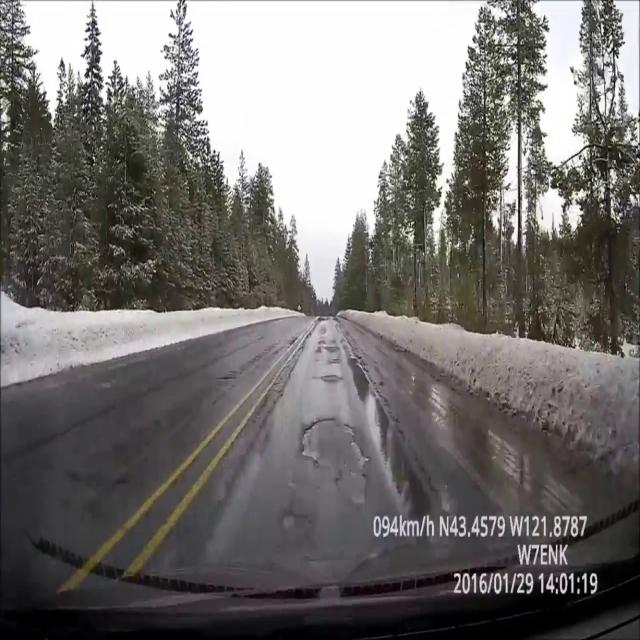Pothole: (300, 422, 372, 503), (321, 375, 340, 381), (215, 376, 235, 380), (326, 345, 339, 351)
